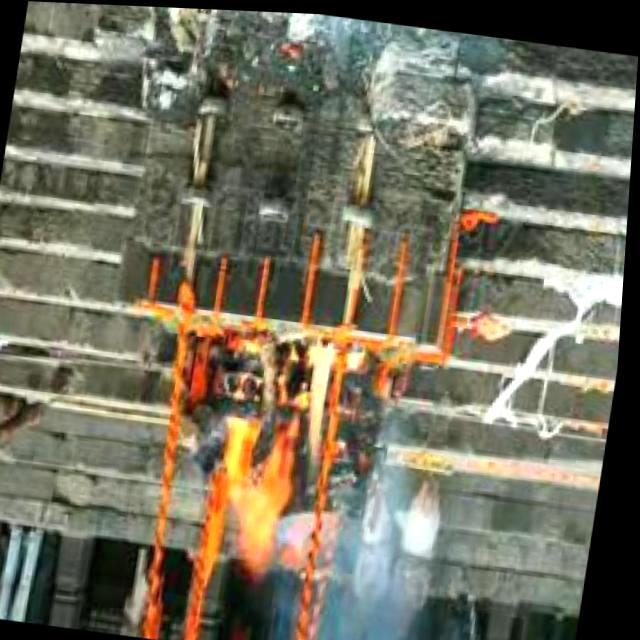fire: (208, 324, 348, 588)
